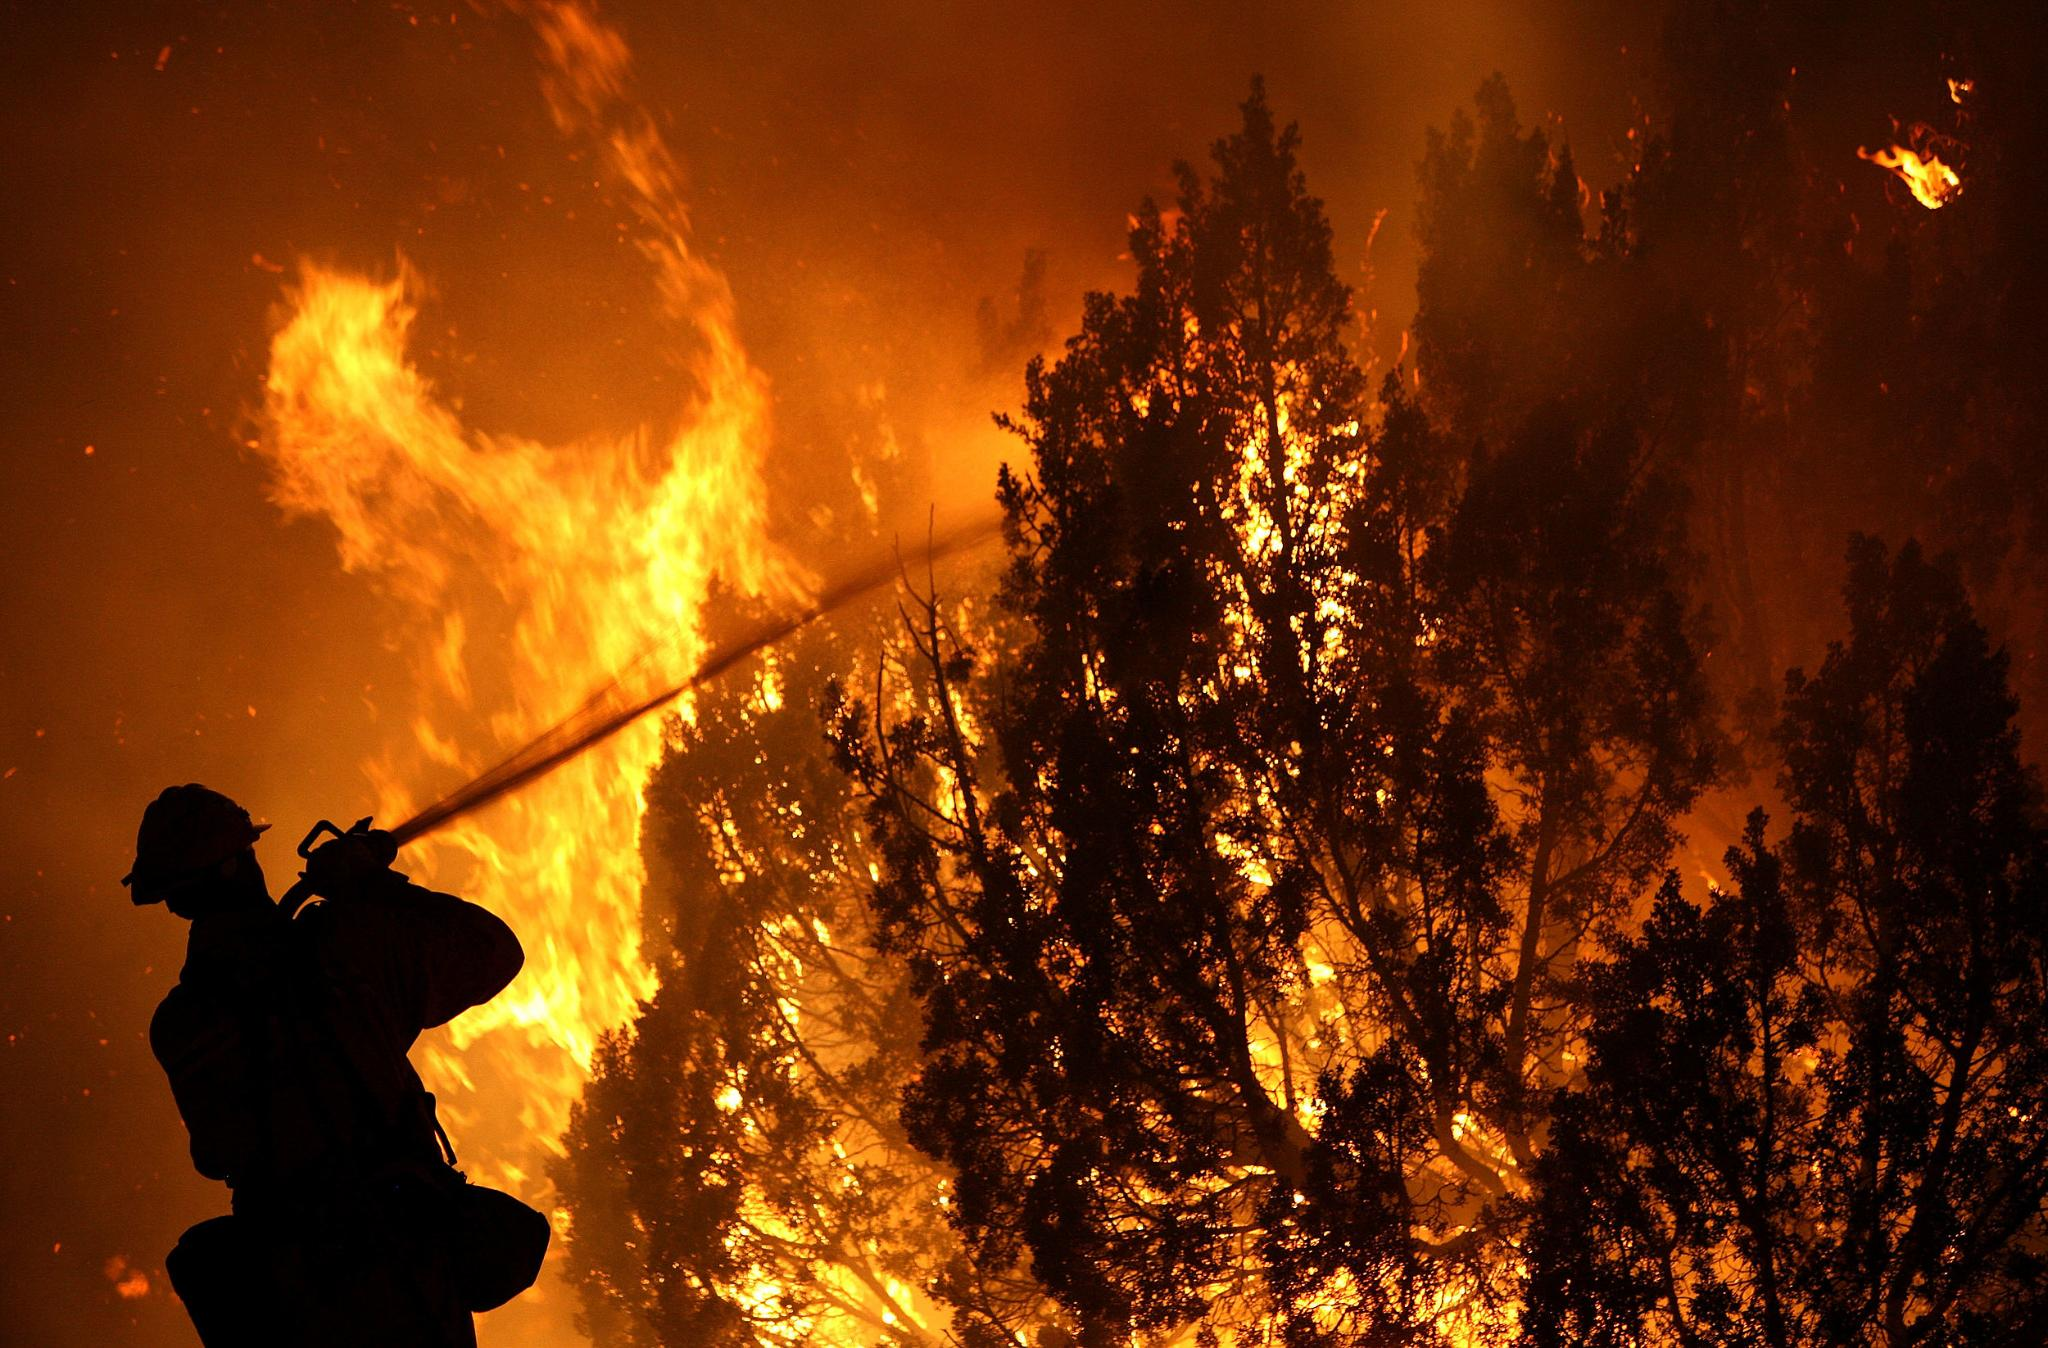fire: (217, 11, 2034, 1348)
